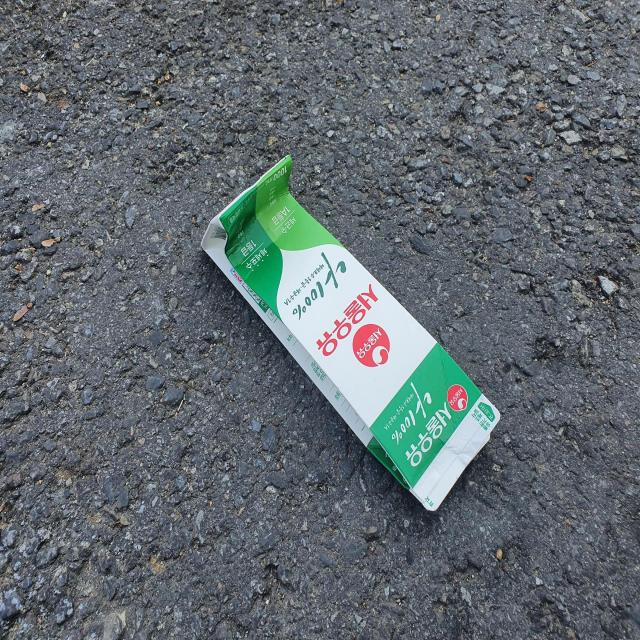paperpack: (201, 155, 501, 511)
